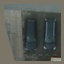car: (23, 17, 36, 50), (43, 18, 56, 51)
